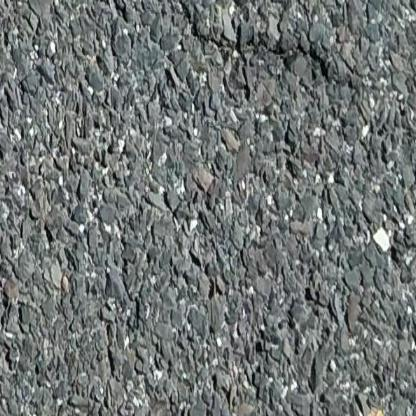Cracks: (176, 0, 335, 85)
